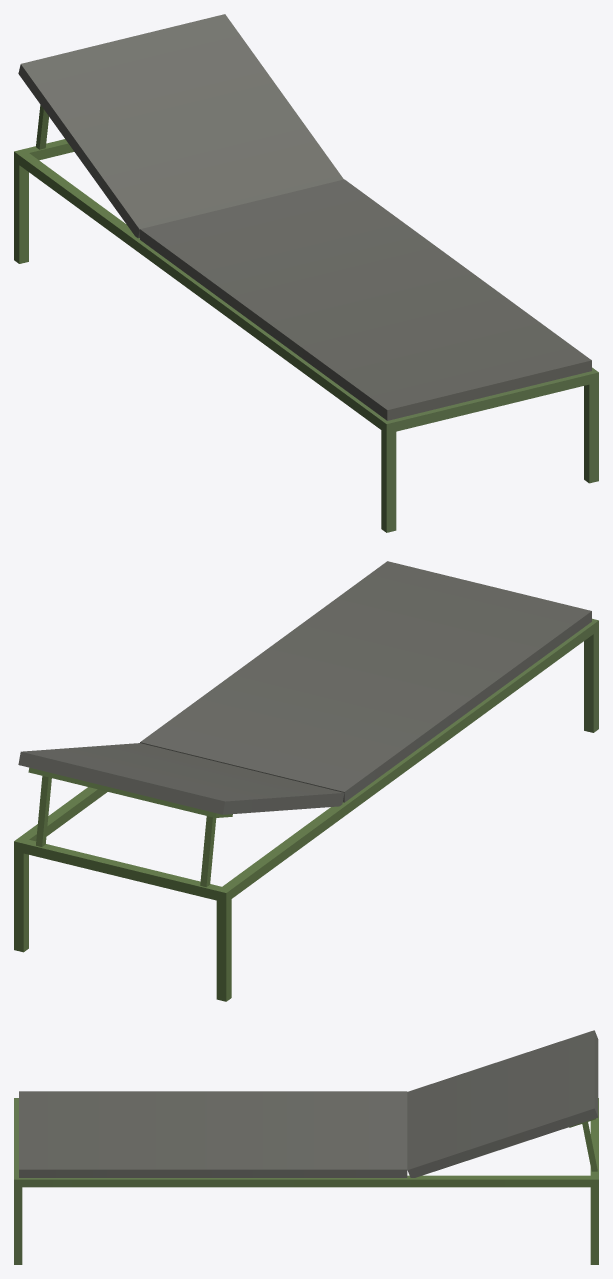
Rendered from Lounger_01.fbx.
3 renders of one model, top to bottom at view 1: azimuth 30°, elevation 25°; view 2: azimuth 150°, elevation 25°; view 3: azimuth 270°, elevation 25°, orthographic. The views are drawn at different scales.
Parts seen in each view (by area): view 1: Lounger_01; view 2: Lounger_01; view 3: Lounger_01.
Boxes of the visible parts, x1=… form: Lounger_01: x1=14, y1=14, x2=598, y2=532; Lounger_01: x1=14, y1=561, x2=598, y2=1001; Lounger_01: x1=14, y1=1030, x2=598, y2=1264.
Size of the model in its own units: 0.6811 by 0.6048 by 2.07.
